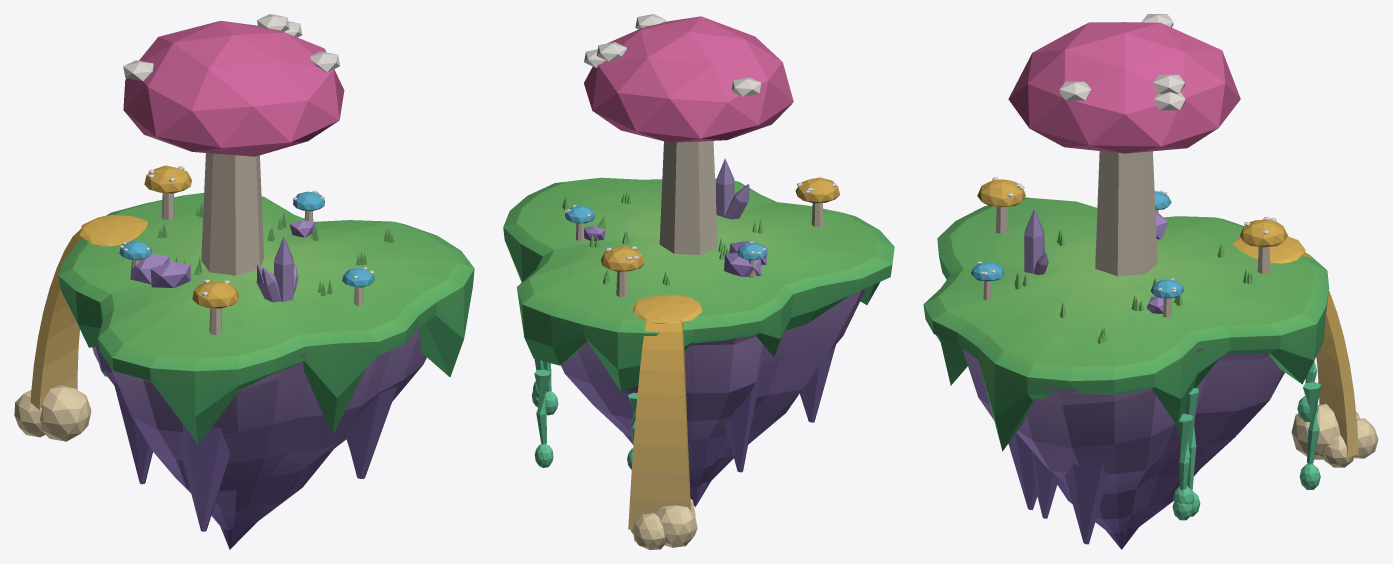
File: obby_island_mushroom.fbx
The picture shows the model from 3 angles, left to right: view 1: azimuth 30°, elevation 25°; view 2: azimuth 150°, elevation 25°; view 3: azimuth 270°, elevation 25°; orthographic projection. The views are drawn at different scales.
Visible parts, largest first — view 1: obby_island_mushroom; view 2: obby_island_mushroom; view 3: obby_island_mushroom.
Boxes of the visible parts, box(x1,y1,x2,y2) form: obby_island_mushroom: box(14, 14, 474, 549); obby_island_mushroom: box(503, 14, 894, 549); obby_island_mushroom: box(923, 14, 1378, 549).
Bounding box in the file's own units: 82.31 × 108 × 85.5.
